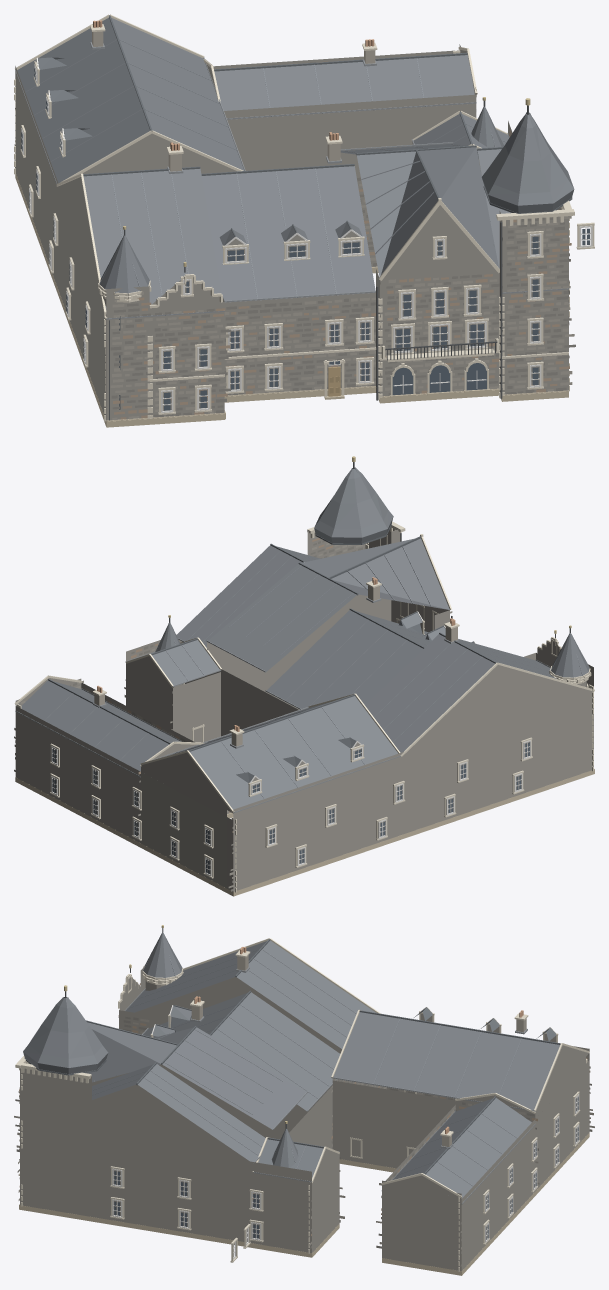
File: 39_pre1913.glb
The picture shows the model from 3 angles, top to bottom: view 1: azimuth 30°, elevation 25°; view 2: azimuth 150°, elevation 25°; view 3: azimuth 270°, elevation 25°; orthographic projection. The views are drawn at different scales.
Visible parts, largest first — view 1: slate, rubble, ss_lt, rubble_dk, rubble_lt, frame, ss_dk, rubble_rust, slate_dk, slate_lt, lead, pipe (+1 smaller); view 2: rubble, slate, ss_lt, ss_dk, slate_lt, slate_dk, frame, lead, chim_stone; view 3: rubble, slate, ss_lt, ss_dk, slate_lt, slate_dk, frame, lead, chim_stone, rubble_dk, rubble_lt.
Part boxes in pixels (<box>): slate: <box>17,17,574,309</box>; rubble: <box>15,44,568,420</box>; ss_lt: <box>14,14,594,421</box>; rubble_dk: <box>15,53,575,417</box>; rubble_lt: <box>14,58,574,419</box>; frame: <box>21,57,592,412</box>; ss_dk: <box>15,174,568,427</box>; rubble_rust: <box>113,57,571,419</box>; slate_dk: <box>38,15,572,236</box>; slate_lt: <box>25,39,531,315</box>; lead: <box>15,42,568,319</box>; pipe: <box>109,100,528,420</box>; rubble: <box>15,528,593,891</box>; slate: <box>21,468,589,809</box>; ss_lt: <box>14,521,594,892</box>; ss_dk: <box>15,769,594,896</box>; slate_lt: <box>44,467,589,798</box>; slate_dk: <box>48,523,496,782</box>; frame: <box>51,611,531,876</box>; lead: <box>15,597,550,813</box>; chim_stone: <box>94,585,457,746</box>; rubble: <box>20,966,589,1271</box>; slate: <box>23,932,559,1197</box>; ss_lt: <box>15,938,589,1271</box>; ss_dk: <box>19,1132,589,1275</box>; slate_lt: <box>62,949,521,1185</box>; slate_dk: <box>24,939,560,1174</box>; frame: <box>112,1005,579,1258</box>; lead: <box>19,967,535,1204</box>; chim_stone: <box>191,955,526,1146</box>; rubble_dk: <box>15,1016,592,1266</box>; rubble_lt: <box>14,1018,594,1249</box>.
Size of the model in its own units: 45.41 by 22.06 by 52.59.
